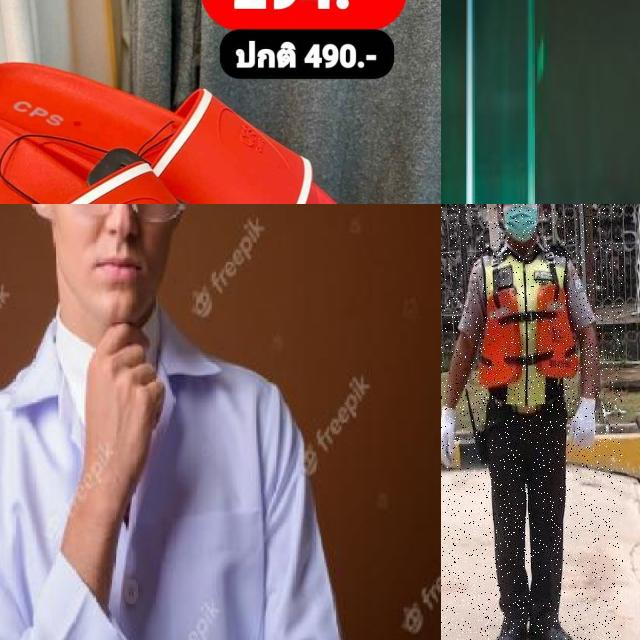No_Ear-Protection: (22, 204, 55, 222)
Sandals: (0, 41, 441, 204)
boots: (527, 611, 578, 640), (491, 612, 530, 640)
face_nomask: (59, 204, 181, 308)
glasses: (35, 204, 188, 225)
hand_noglove: (81, 317, 170, 510)
person: (0, 204, 344, 640), (441, 204, 623, 640)
vest: (479, 248, 578, 409)
